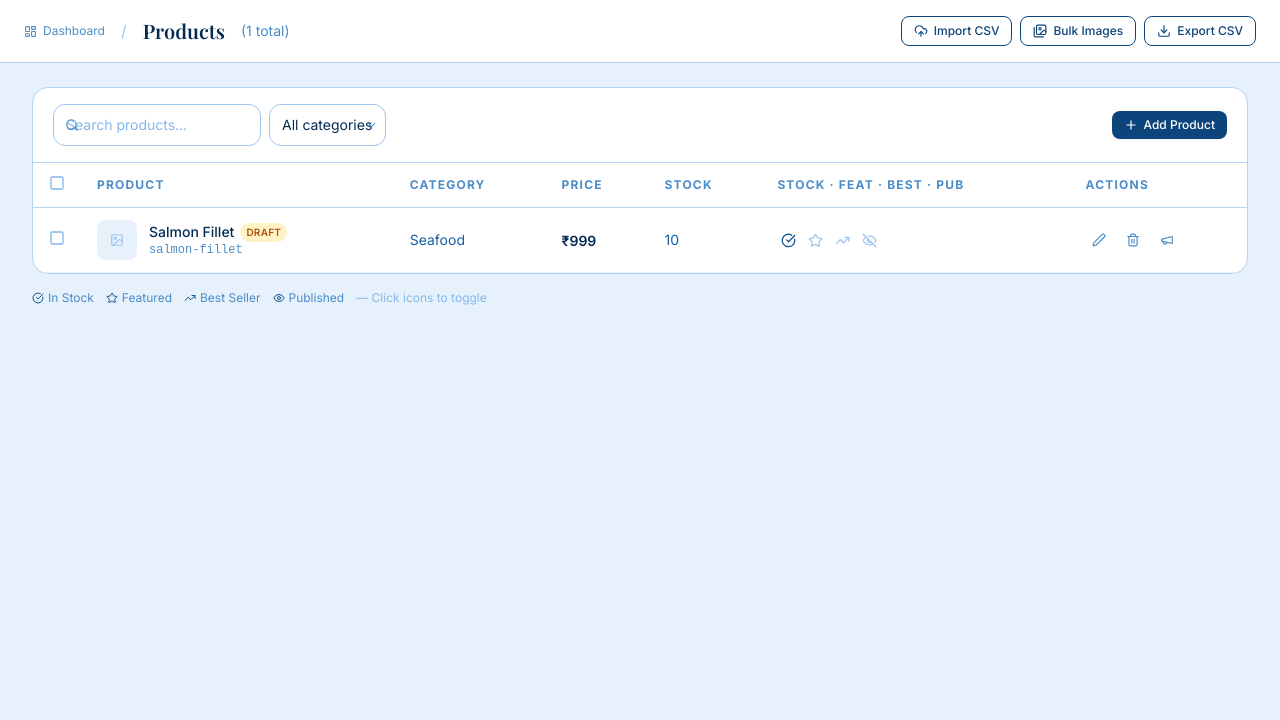
it: AdminProductsPage — bulk actions › opens the bulk image upload modal
Expected: the text "Salmon Fillet" is shown, [149,222,234,242]
Click the button "Bulk Images".
click(1078, 31)  # box [1020,16,1136,46]
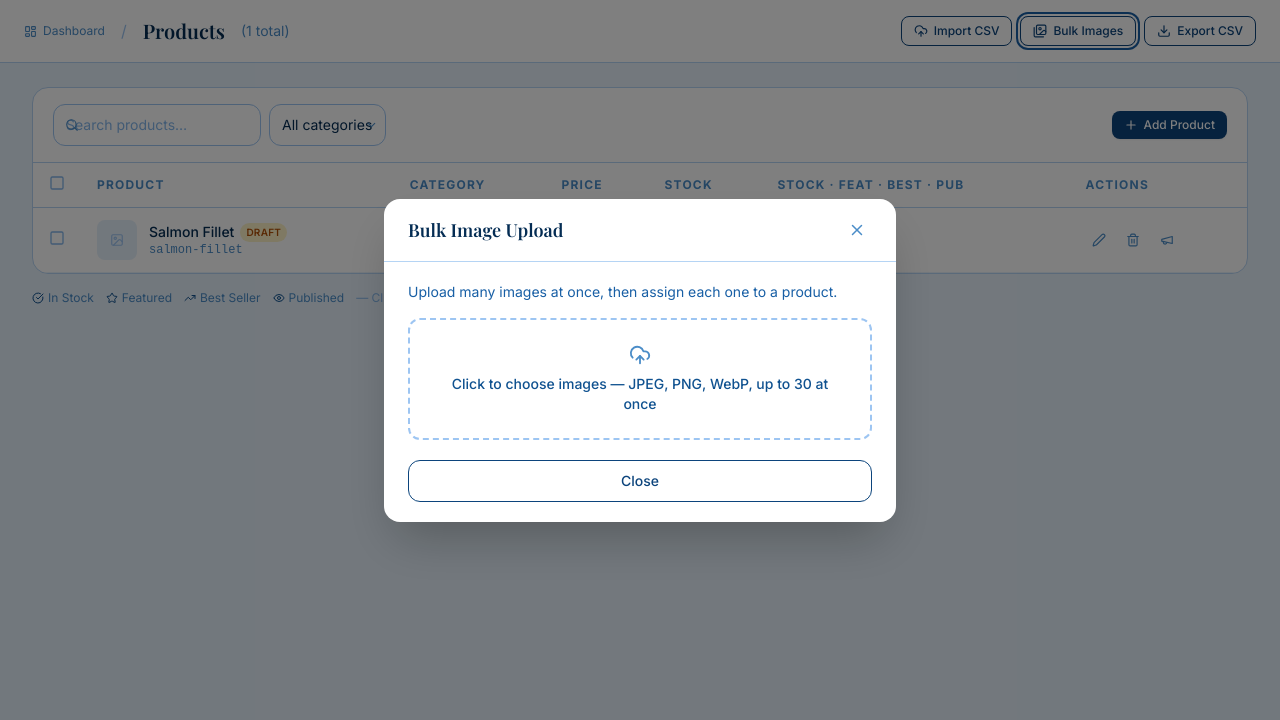
Result: the heading "Bulk Image Upload" is shown at [408,216,563,244]
